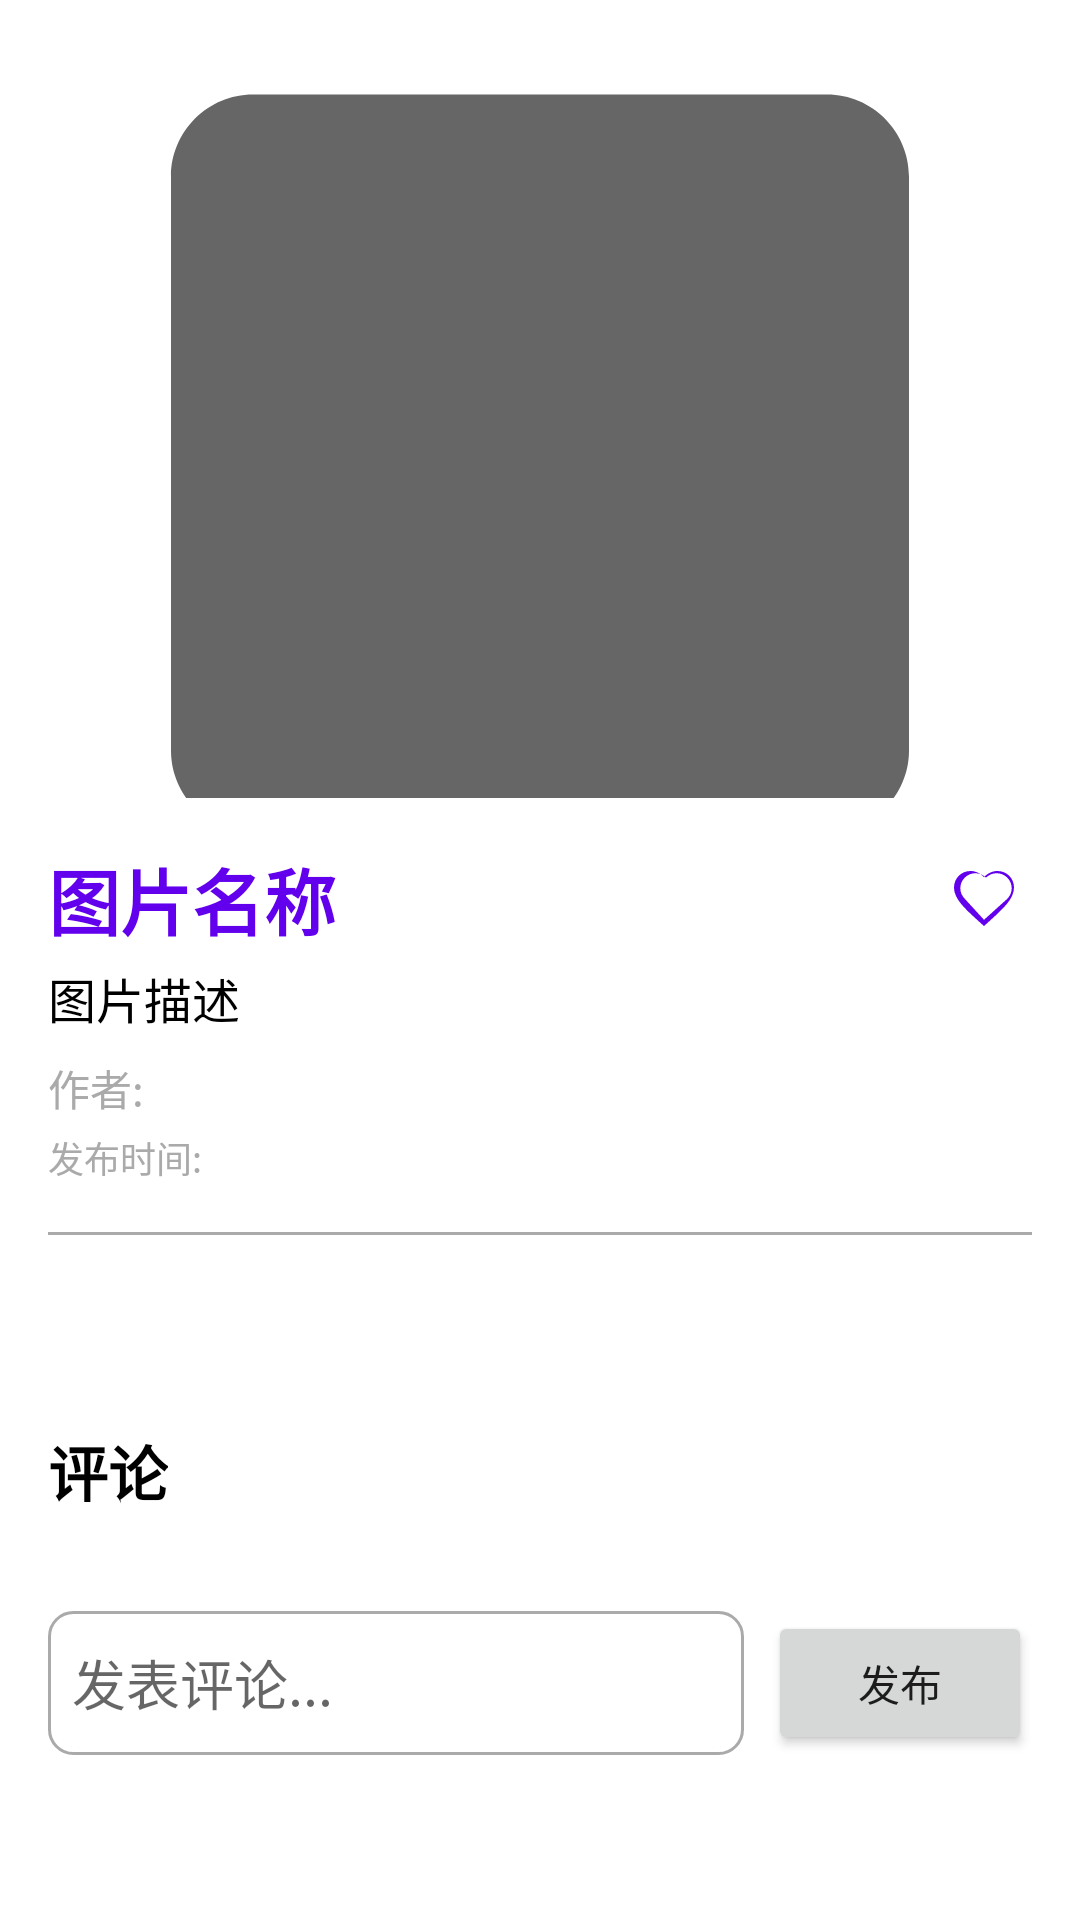

Where to tap for icons on this 1080*1920 app screen, as (x,y):
收藏图片: (984,898)
